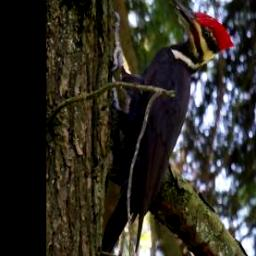Woodpecker: (96, 0, 235, 256)
